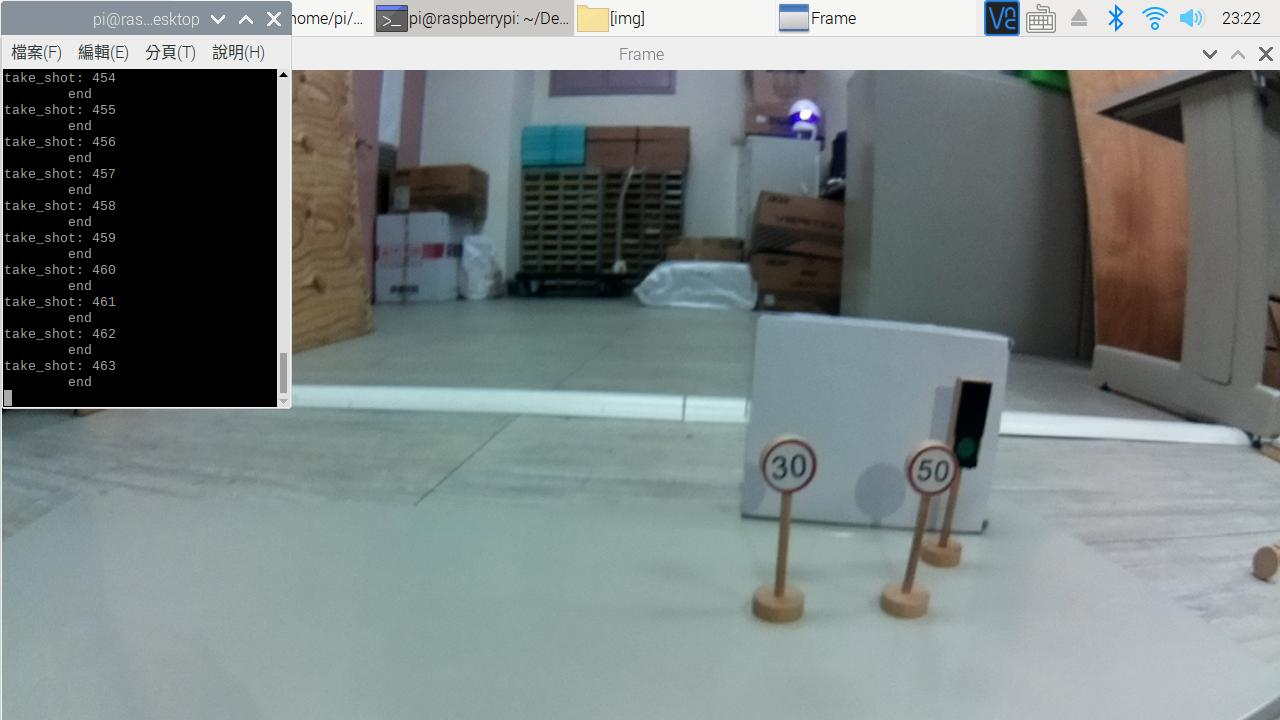Green: (950, 374, 989, 472)
Speed30: (753, 430, 826, 494)
Speed50: (908, 443, 953, 504)
